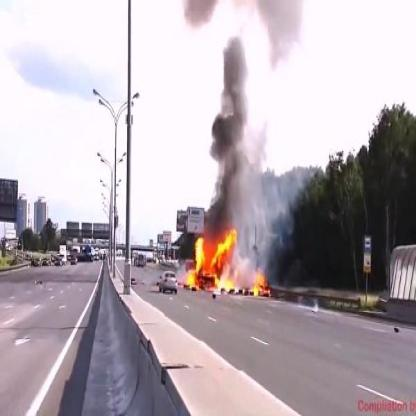fire: (185, 224, 243, 295), (250, 266, 273, 300)
